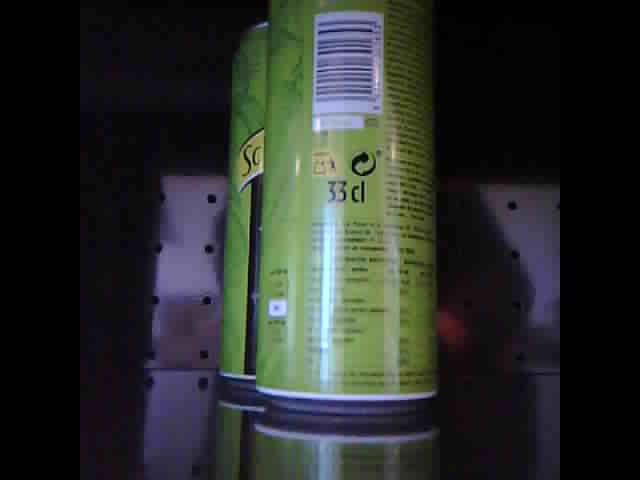schweppes: (254, 2, 441, 412), (217, 15, 272, 395)
